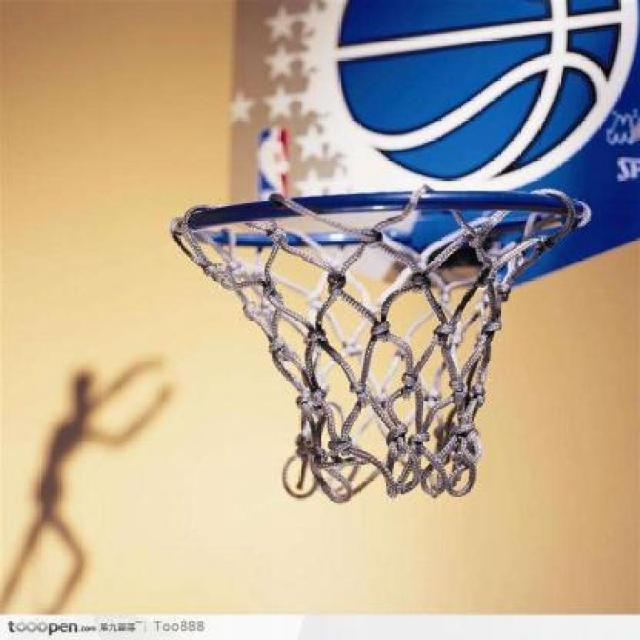rim: (165, 184, 590, 503)
